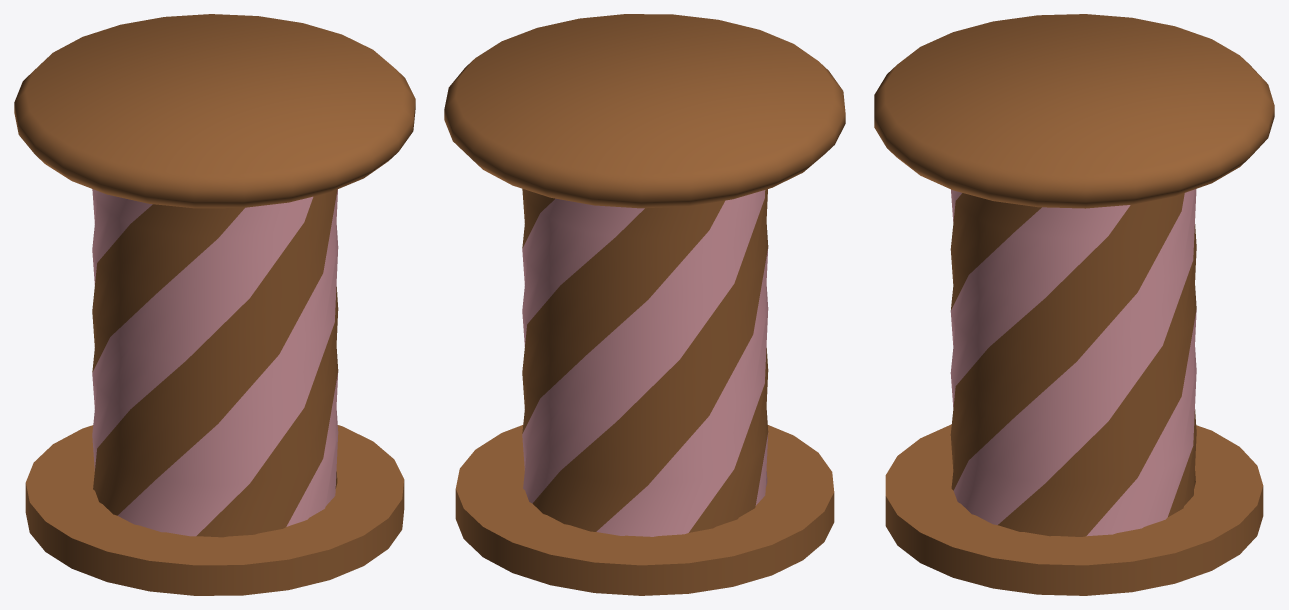
The model's file is column.fbx.
3 views of the same model, side by side, from view 1: azimuth 30°, elevation 25°; view 2: azimuth 150°, elevation 25°; view 3: azimuth 270°, elevation 25° (orthographic).
Visible parts, largest first — view 1: Circle.004, Circle.002, Circle.007; view 2: Circle.004, Circle.002, Circle.007; view 3: Circle.004, Circle.002, Circle.007.
Part boxes in pixels (box(x1,y1,x2,y2)): Circle.004: box(92, 189, 338, 537); Circle.002: box(14, 14, 415, 208); Circle.007: box(25, 425, 404, 595); Circle.004: box(522, 189, 768, 536); Circle.002: box(444, 14, 845, 208); Circle.007: box(455, 425, 834, 595); Circle.004: box(950, 189, 1196, 536); Circle.002: box(874, 14, 1274, 208); Circle.007: box(885, 424, 1263, 595).
Size of the model in its own units: 2.8 by 3.25 by 2.8.
